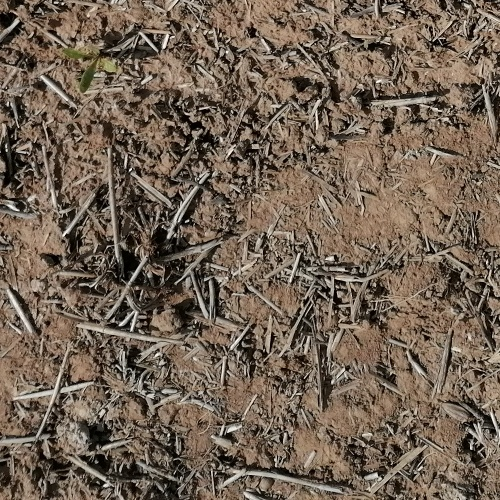beet: (60, 44, 121, 96)
